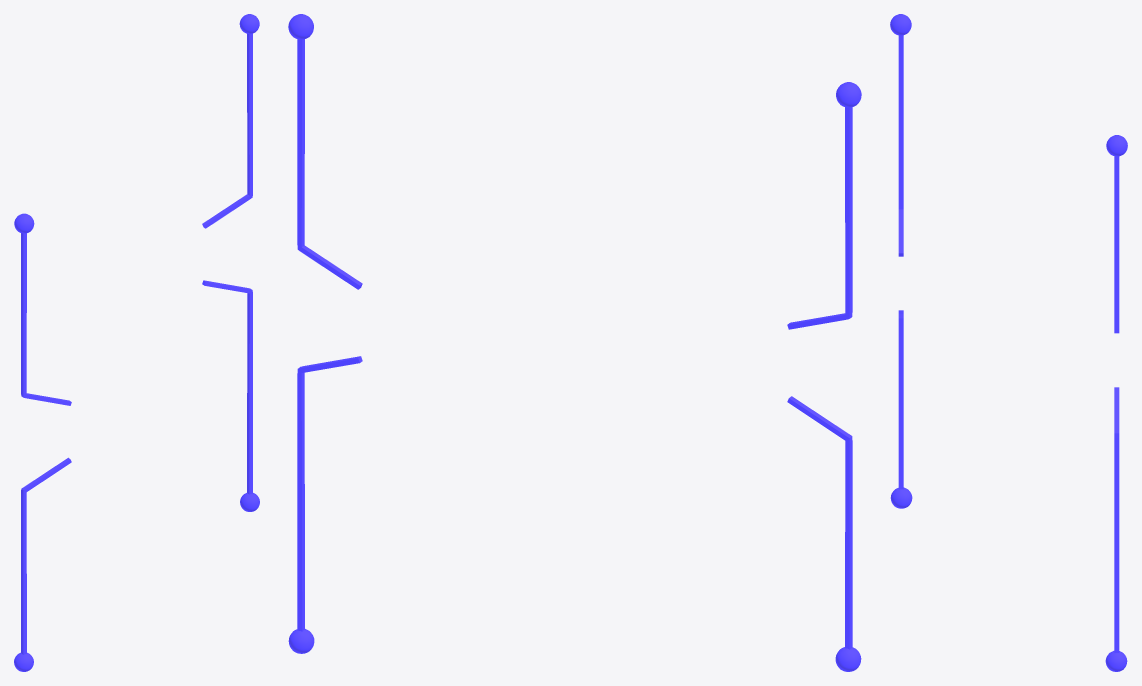
File: SegnPortraitSocial7.gltf
The picture shows the model from 3 angles, left to right: view 1: azimuth 30°, elevation 25°; view 2: azimuth 150°, elevation 25°; view 3: azimuth 270°, elevation 25°; orthographic projection. The views are drawn at different scales.
Visible parts, largest first — view 1: ListnerModuli.009; view 2: ListnerModuli.009; view 3: ListnerModuli.009.
Part boxes in pixels (box(x1,y1,x2,y2)): ListnerModuli.009: box(14, 14, 259, 671); ListnerModuli.009: box(288, 14, 861, 671); ListnerModuli.009: box(890, 14, 1127, 671).
Bounding box in the file's own units: 0.8334 × 1.17 × 0.4639.
